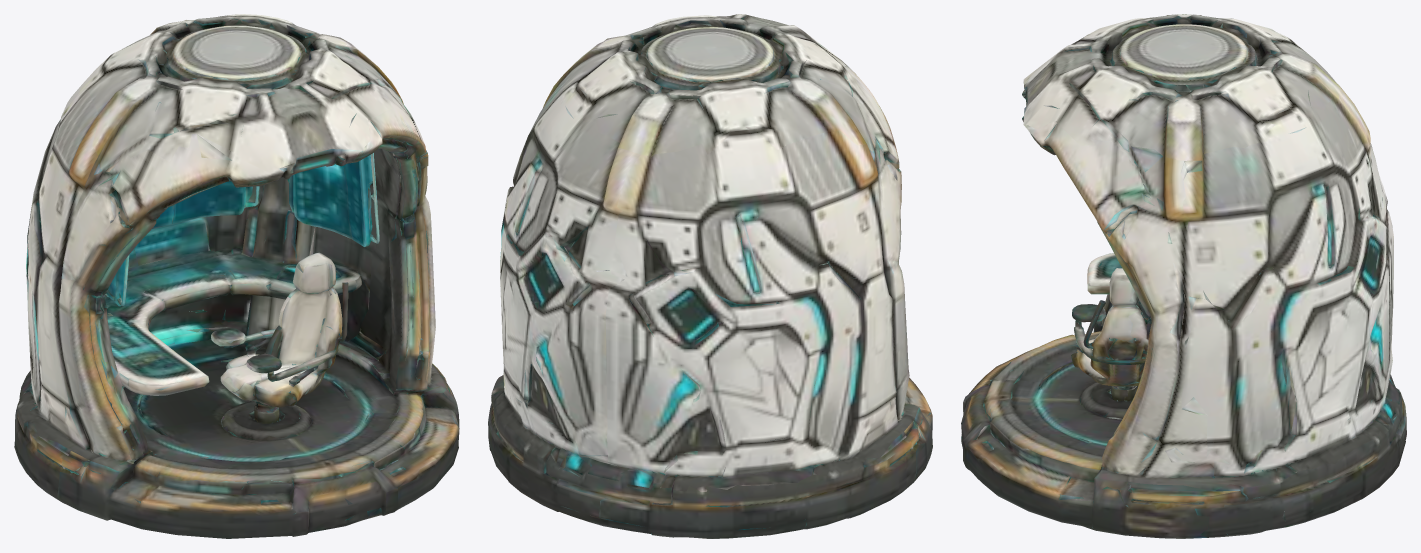
Rendered from eoncity_creator_work_pod.6888af702cb0.glb.
3 views of the same model, side by side, from view 1: azimuth 30°, elevation 25°; view 2: azimuth 150°, elevation 25°; view 3: azimuth 270°, elevation 25° (orthographic).
Visible parts, largest first — view 1: Mesh1.0; view 2: Mesh1.0; view 3: Mesh1.0.
Part boxes in pixels (box(x1,y1,x2,y2)): Mesh1.0: box(14, 14, 459, 538); Mesh1.0: box(488, 14, 932, 538); Mesh1.0: box(961, 14, 1406, 538).
Size of the model in its own units: 1.9 by 1.87 by 1.89.
Materials: 1 (1 with a texture image).
